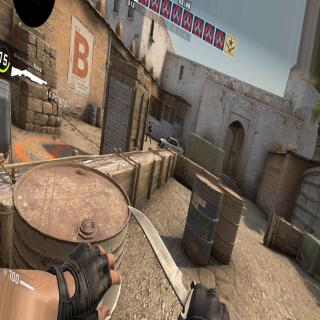CT-Body: (144, 120, 152, 143)
CT-Head: (149, 121, 151, 124)
